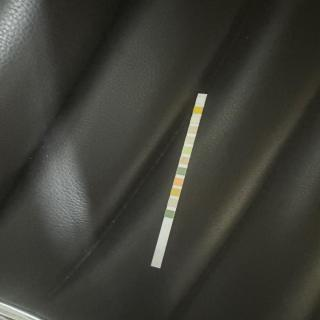mark: (164, 210, 174, 218), (182, 146, 191, 154), (174, 178, 183, 186), (186, 136, 194, 144), (172, 188, 180, 196), (177, 167, 186, 174), (189, 126, 197, 133), (194, 105, 201, 113), (197, 96, 205, 103), (168, 200, 176, 207), (191, 116, 198, 123), (180, 157, 188, 163)
